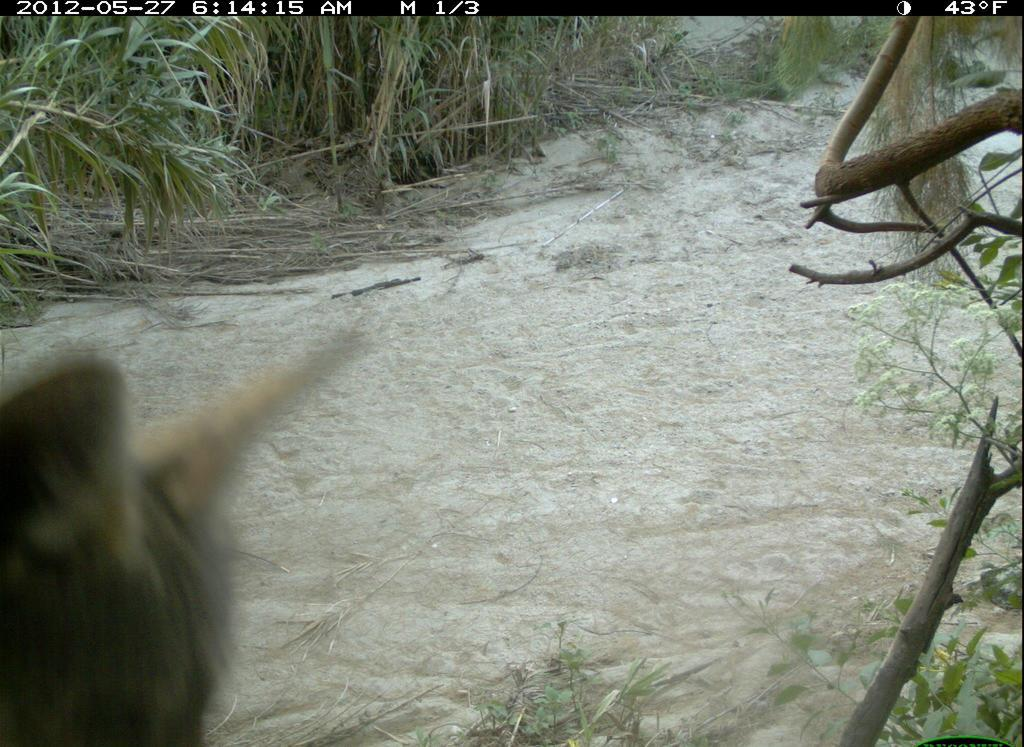coyote: (2, 312, 374, 747)
